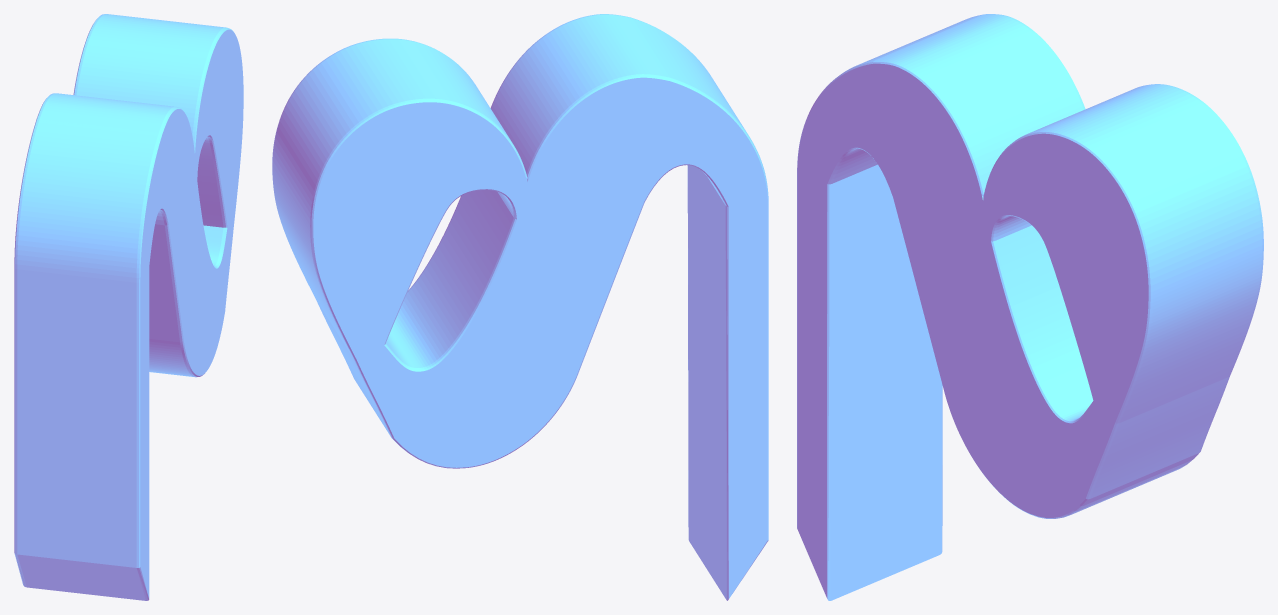
The picture shows the model from 3 angles, left to right: view 1: azimuth 30°, elevation 25°; view 2: azimuth 150°, elevation 25°; view 3: azimuth 270°, elevation 25°; orthographic projection. The views are drawn at different scales.
Parts seen in each view (by area): view 1: 825f4d7b-1b98-4d12-b8ab-09b555e5440d; view 2: 825f4d7b-1b98-4d12-b8ab-09b555e5440d; view 3: 825f4d7b-1b98-4d12-b8ab-09b555e5440d.
Boxes of the visible parts, <box> form: 825f4d7b-1b98-4d12-b8ab-09b555e5440d: <box>14,14,243,600</box>; 825f4d7b-1b98-4d12-b8ab-09b555e5440d: <box>272,14,768,600</box>; 825f4d7b-1b98-4d12-b8ab-09b555e5440d: <box>797,14,1263,600</box>.
Bounding box in the file's own units: 16.98 × 22.74 × 16.98.
